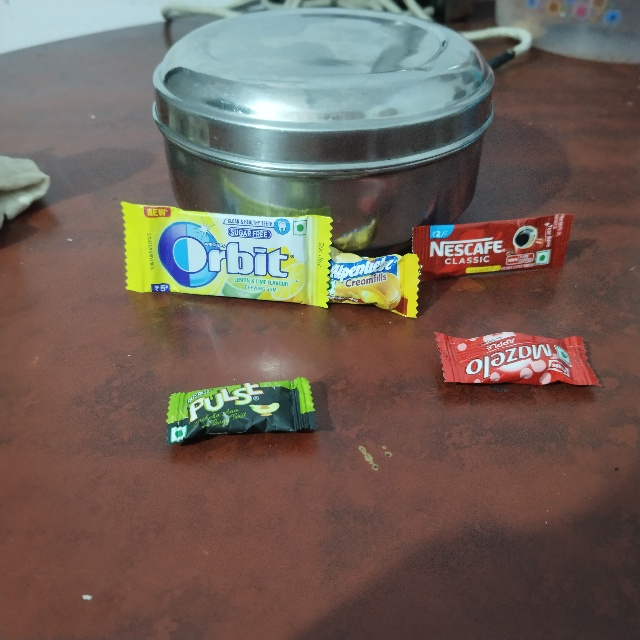Alpenlibe Creamfills: (319, 245, 419, 316)
Mazelo: (433, 326, 599, 392)
Nescafe Coffee: (409, 229, 565, 280)
Orbit: (119, 197, 333, 310)
Pulse: (160, 390, 313, 450)
